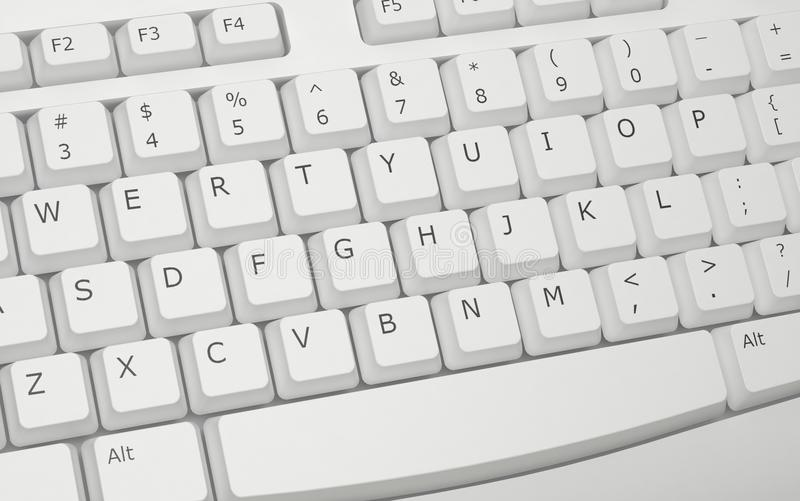keyboard: (7, 16, 797, 473)
